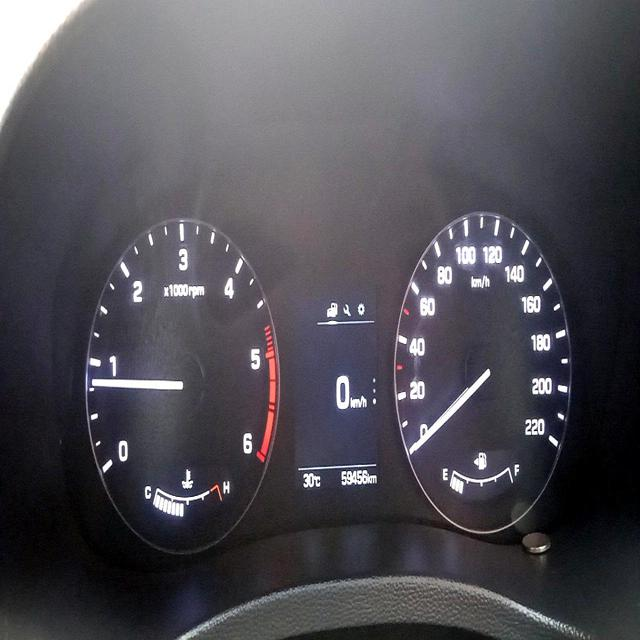odometer: (339, 465, 369, 489)
